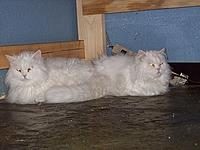persian: (3, 47, 48, 85)
